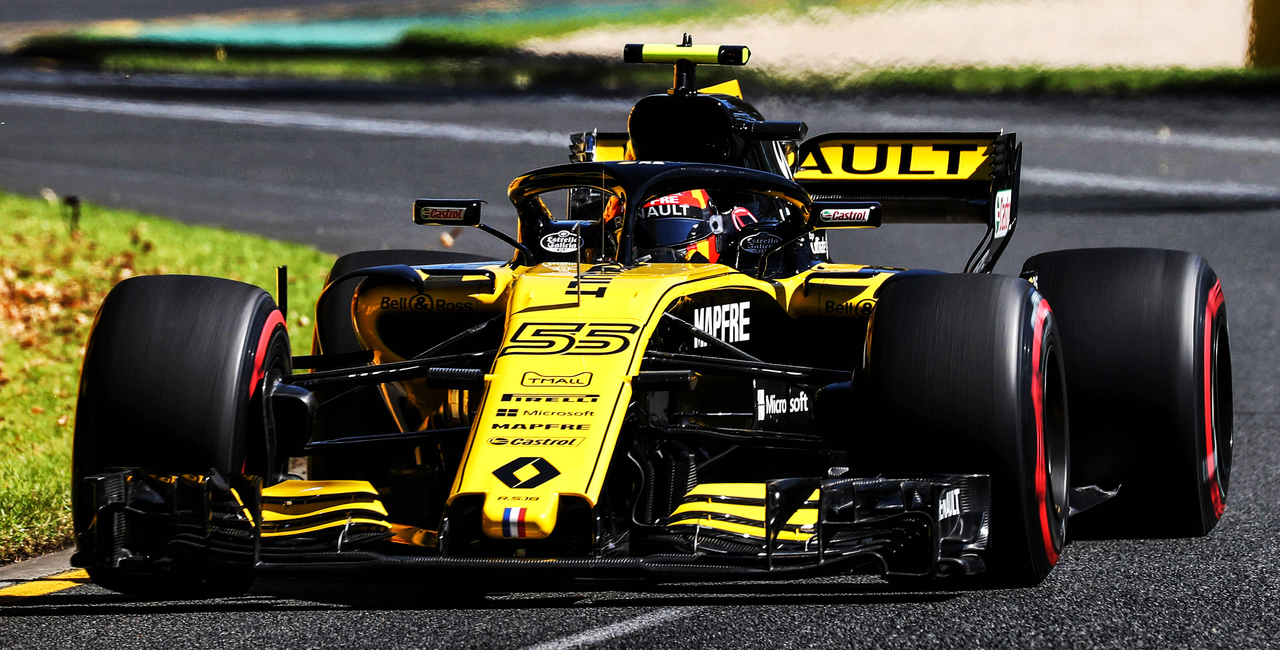f1_car: (4, 29, 1248, 612)
